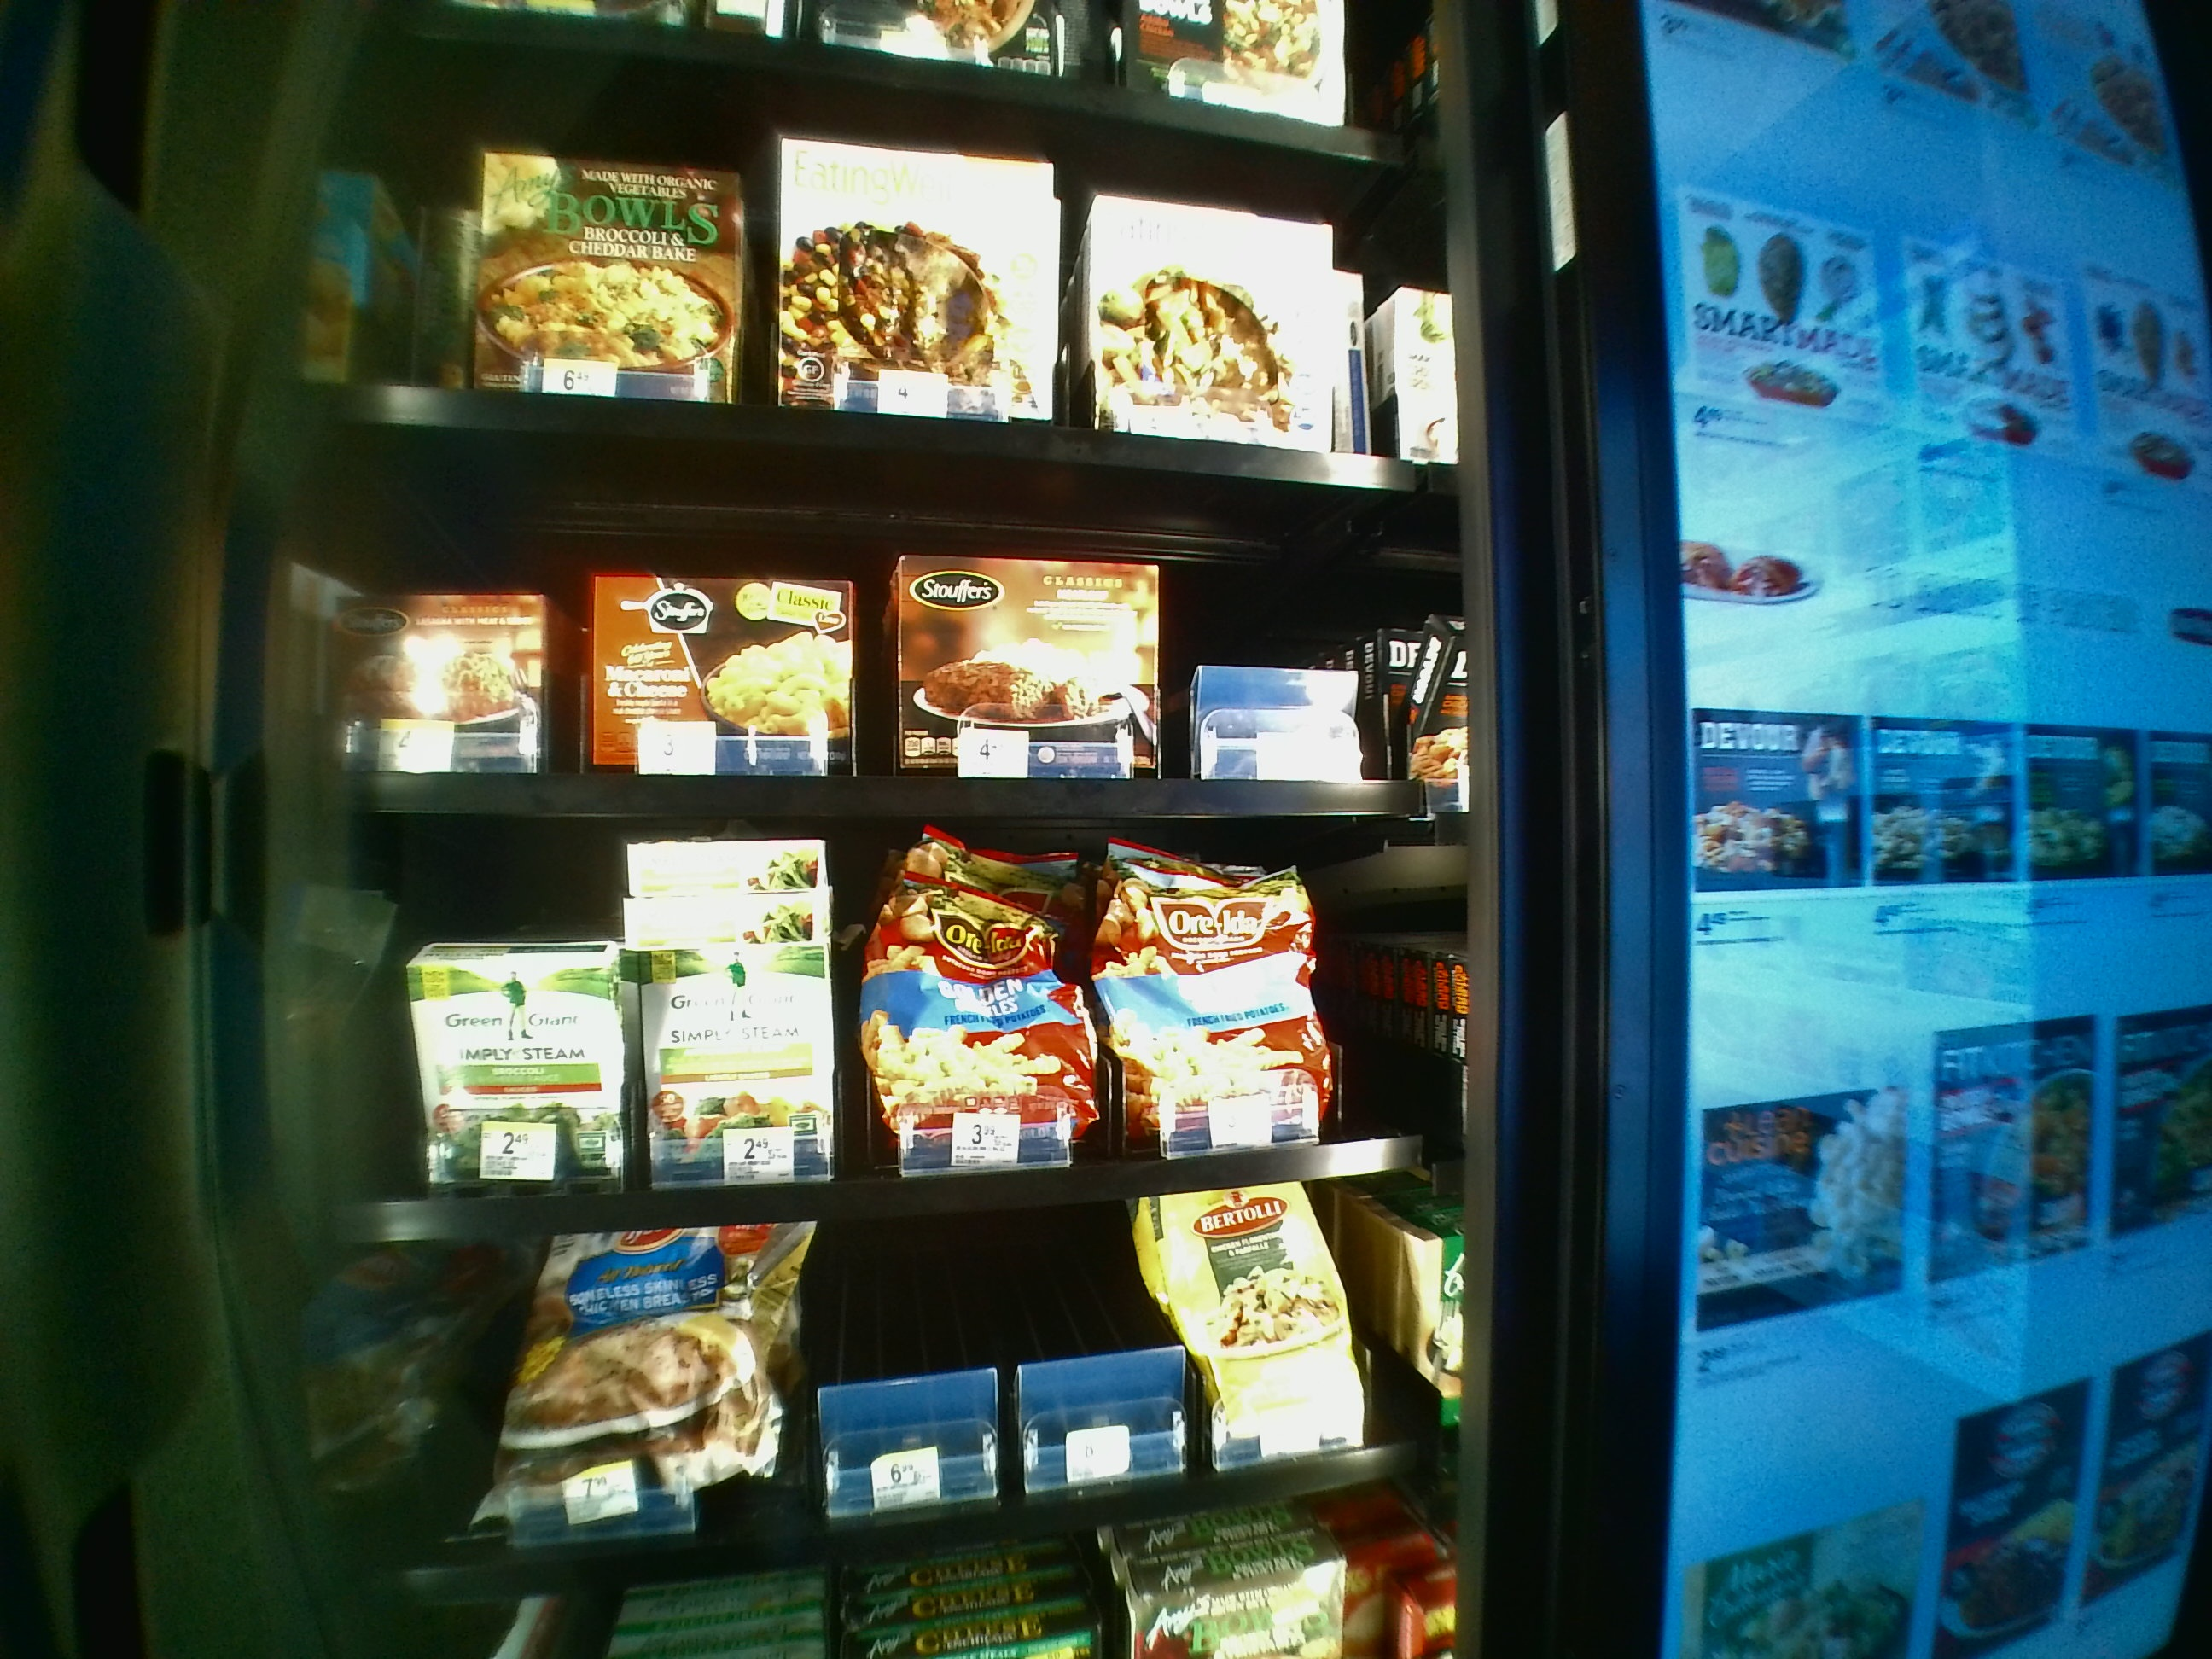shelf: (294, 829, 1451, 1251), (294, 420, 1451, 823)
